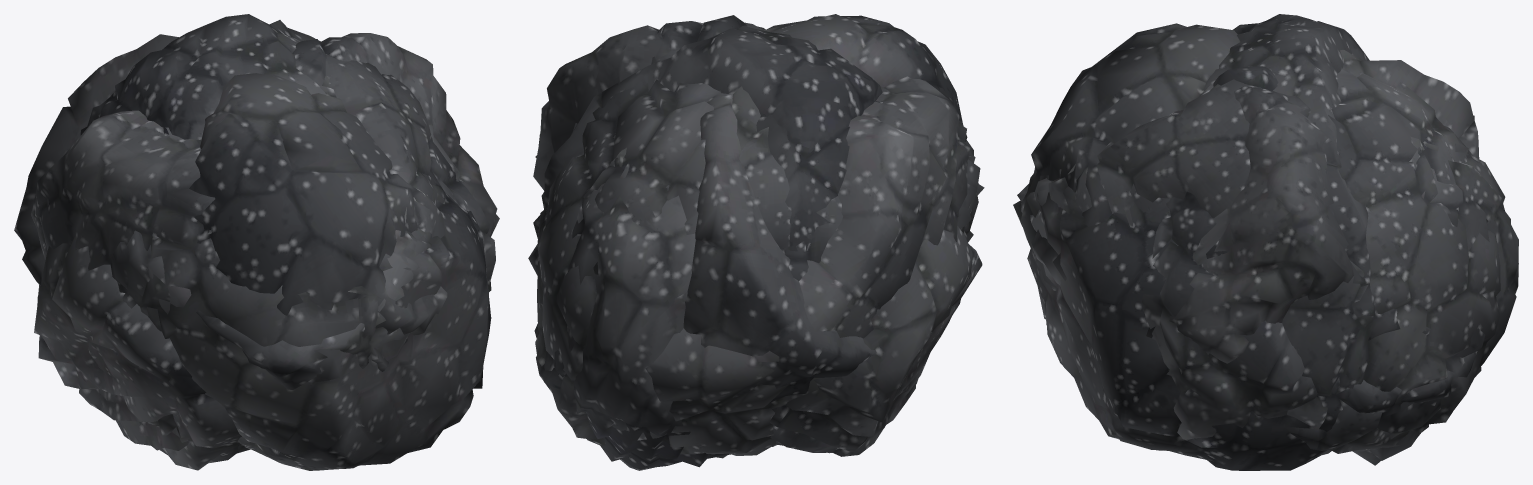
File: rocks.glb
3 views of the same model, side by side, from view 1: azimuth 30°, elevation 25°; view 2: azimuth 150°, elevation 25°; view 3: azimuth 270°, elevation 25° (orthographic). The views are drawn at different scales.
Visible parts, largest first — view 1: Rock_5, Rock_3, Rock_2, Rock_1, Rock_4, Rock_0; view 2: Rock_5, Rock_3, Rock_4, Rock_2, Rock_1, Rock_0; view 3: Rock_4, Rock_5, Rock_3, Rock_2, Rock_0, Rock_1.
Part boxes in pixels (x1=…): Rock_5: x1=31, y1=110, x2=491, y2=470; Rock_3: x1=189, y1=73, x2=447, y2=335; Rock_2: x1=34, y1=33, x2=499, y2=470; Rock_1: x1=80, y1=14, x2=330, y2=442; Rock_4: x1=196, y1=54, x2=445, y2=389; Rock_0: x1=14, y1=34, x2=495, y2=291; Rock_5: x1=534, y1=76, x2=978, y2=458; Rock_3: x1=553, y1=14, x2=962, y2=470; Rock_4: x1=535, y1=22, x2=984, y2=445; Rock_2: x1=533, y1=15, x2=982, y2=456; Rock_1: x1=528, y1=26, x2=980, y2=446; Rock_0: x1=683, y1=93, x2=876, y2=406; Rock_4: x1=1013, y1=50, x2=1500, y2=455; Rock_5: x1=1017, y1=173, x2=1477, y2=470; Rock_3: x1=1020, y1=23, x2=1518, y2=465; Rock_2: x1=1146, y1=66, x2=1353, y2=363; Rock_0: x1=1142, y1=59, x2=1479, y2=439; Rock_1: x1=1204, y1=14, x2=1430, y2=340.
Size of the model in its own units: 1.78 by 1.76 by 2.01.
Materials: 7 (7 with a texture image).
